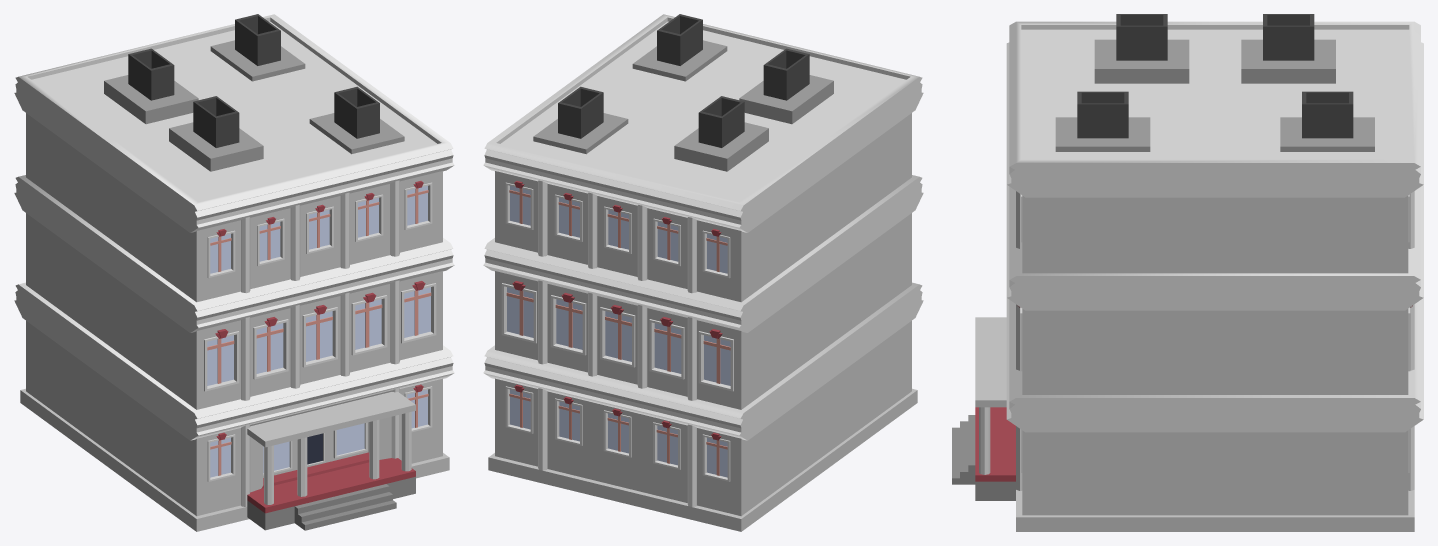
The model's file is publicservice_1.glb.
The picture shows the model from 3 angles, left to right: view 1: azimuth 30°, elevation 25°; view 2: azimuth 150°, elevation 25°; view 3: azimuth 270°, elevation 25°; orthographic projection. The views are drawn at different scales.
Parts seen in each view (by area): view 1: building_3; view 2: building_3; view 3: building_3.
Part boxes in pixels (bbox=[...]): building_3: bbox=[14, 14, 454, 531]; building_3: bbox=[483, 14, 923, 531]; building_3: bbox=[952, 14, 1423, 531].
Bounding box in the file's own units: 0.8598 × 1.17 × 1.21.
